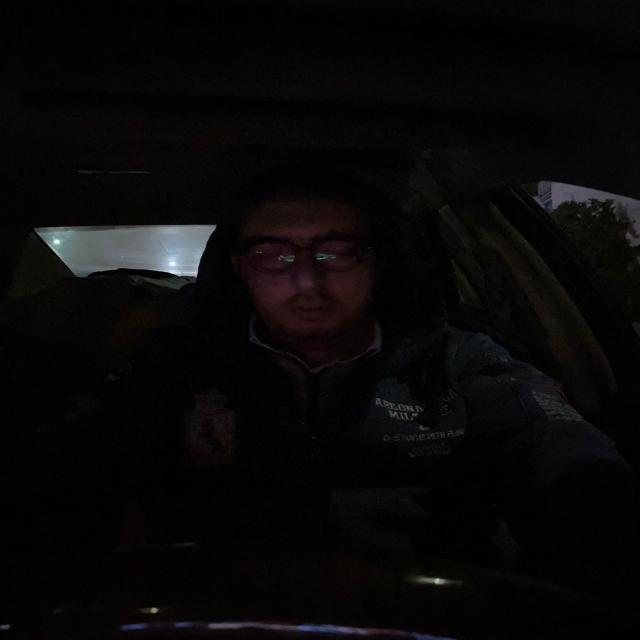drowsy: (224, 162, 391, 358)
